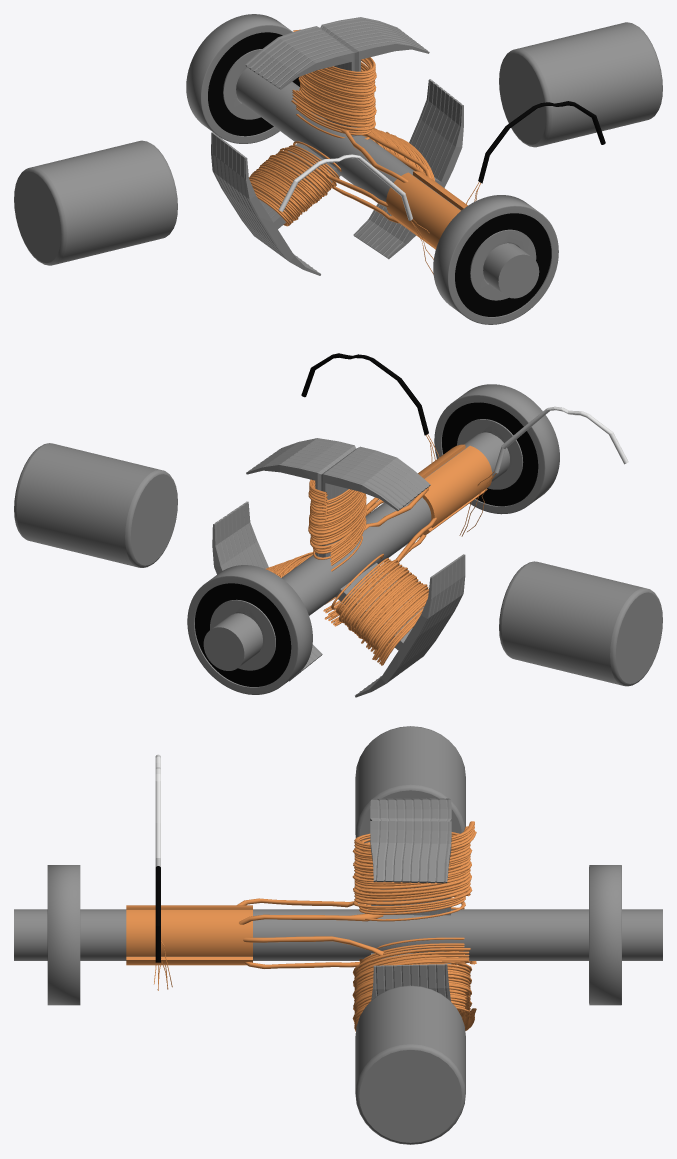
File: my_motor.fbx
3 views of the same model, one above another, from view 1: azimuth 30°, elevation 25°; view 2: azimuth 150°, elevation 25°; view 3: azimuth 270°, elevation 25° (orthographic). The views are drawn at different scales.
Visible parts, largest first — view 1: Cube, Cylinder.047, Cylinder.006, Cylinder.042, Cylinder, Cylinder.043, Cylinder.009, Cylinder.003, Cylinder.002, Cylinder.040, Cylinder.004, Cylinder.005 (+1 smaller); view 2: Cylinder.047, Cylinder.006, Cube, Cylinder.043, Cylinder.042, Cylinder, Cylinder.003, Cylinder.002, Cylinder.009, Cylinder.004, Cylinder.005, Cylinder.040; view 3: Cylinder, Cylinder.006, Cube, Cylinder.047, Cylinder.002, Cylinder.009, Cylinder.042, Cylinder.043, Cylinder.001, Cylinder.040, Cylinder.004, Cylinder.005.
Boxes of the visible parts, x1=… form: Cube: x1=211, y1=17, x2=463, y2=275; Cylinder.047: x1=14, y1=140, x2=177, y2=265; Cylinder.006: x1=499, y1=22, x2=662, y2=147; Cylinder.042: x1=433, y1=195, x2=558, y2=324; Cylinder: x1=236, y1=67, x2=539, y2=298; Cylinder.043: x1=186, y1=14, x2=299, y2=143; Cylinder.009: x1=291, y1=29, x2=376, y2=139; Cylinder.003: x1=249, y1=141, x2=341, y2=226; Cylinder.002: x1=386, y1=171, x2=467, y2=249; Cylinder.040: x1=320, y1=129, x2=434, y2=223; Cylinder.004: x1=278, y1=154, x2=435, y2=274; Cylinder.005: x1=466, y1=101, x2=605, y2=204; Cylinder.047: x1=499, y1=561, x2=662, y2=686; Cylinder.006: x1=14, y1=443, x2=177, y2=567; Cube: x1=212, y1=438, x2=465, y2=697; Cylinder.043: x1=187, y1=565, x2=312, y2=694; Cylinder.042: x1=434, y1=384, x2=559, y2=514; Cylinder: x1=203, y1=432, x2=509, y2=670; Cylinder.003: x1=323, y1=553, x2=428, y2=665; Cylinder.002: x1=418, y1=444, x2=492, y2=536; Cylinder.009: x1=308, y1=479, x2=366, y2=571; Cylinder.004: x1=459, y1=406, x2=628, y2=536; Cylinder.005: x1=301, y1=353, x2=439, y2=462; Cylinder.040: x1=364, y1=487, x2=436, y2=571; Cylinder: x1=14, y1=909, x2=662, y2=960; Cylinder.006: x1=355, y1=985, x2=465, y2=1144; Cube: x1=370, y1=798, x2=451, y2=1001; Cylinder.047: x1=355, y1=726, x2=465, y2=847; Cylinder.002: x1=126, y1=905, x2=252, y2=965; Cylinder.009: x1=352, y1=821, x2=476, y2=921; Cylinder.042: x1=47, y1=865, x2=80, y2=1005; Cylinder.043: x1=589, y1=865, x2=621, y2=1005; Cylinder.001: x1=352, y1=937, x2=476, y2=1031; Cylinder.040: x1=237, y1=898, x2=383, y2=968; Cylinder.004: x1=154, y1=754, x2=160, y2=990; Cylinder.005: x1=155, y1=866, x2=172, y2=989.
Size of the model in its own units: 884 by 306 by 753.
